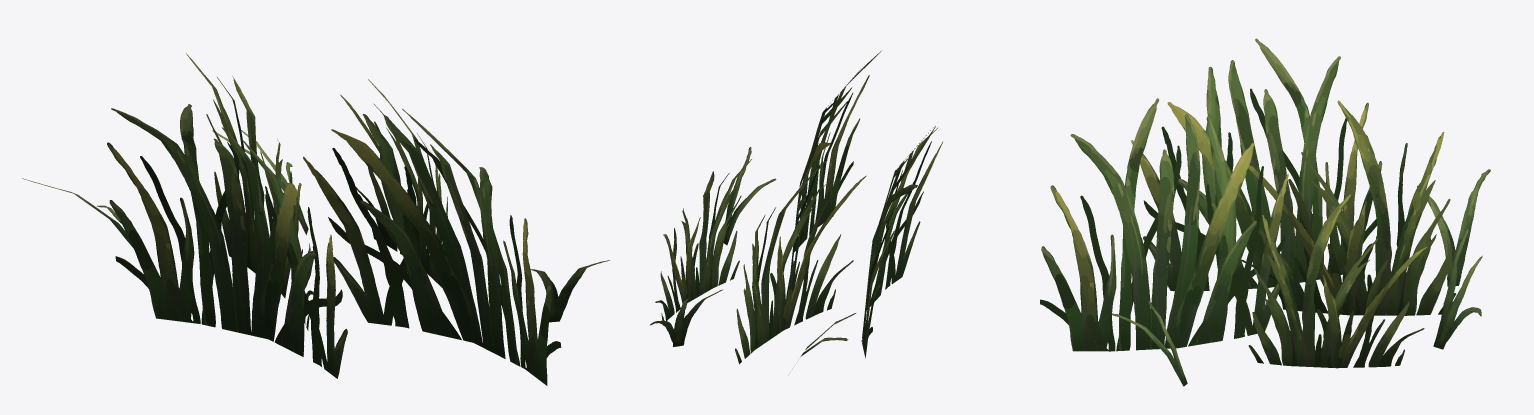
Rendered from GrassPatch2_Mesh.fbx.
The picture shows the model from 3 angles, left to right: view 1: azimuth 30°, elevation 25°; view 2: azimuth 150°, elevation 25°; view 3: azimuth 270°, elevation 25°; orthographic projection. The views are drawn at different scales.
Visible parts, largest first — view 1: Plane.151; view 2: Plane.151; view 3: Plane.151.
Boxes of the visible parts, x1,y1,x2,y2 form: Plane.151: (22, 53, 609, 385); Plane.151: (650, 51, 943, 364); Plane.151: (1040, 38, 1490, 386).
Size of the model in its own units: 0.9082 by 1.08 by 0.5417.
